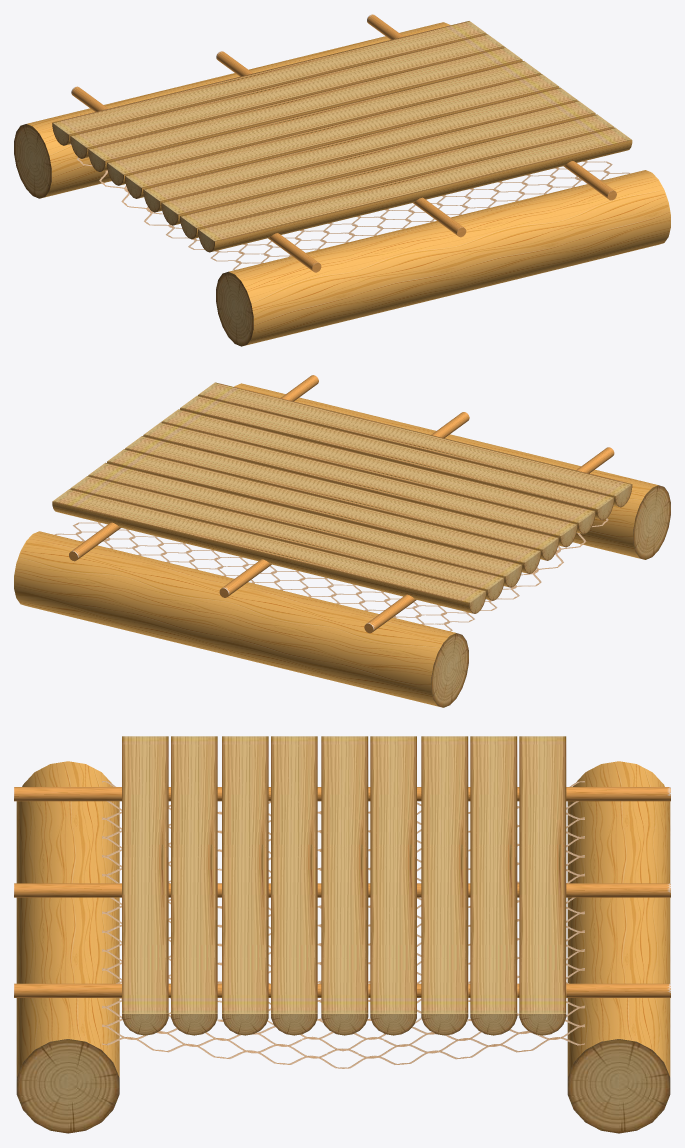
The model's file is Raft.FBX.
3 views of the same model, one above another, from view 1: azimuth 30°, elevation 25°; view 2: azimuth 150°, elevation 25°; view 3: azimuth 270°, elevation 25° (orthographic). The views are drawn at different scales.
Visible parts, largest first — view 1: Box001; view 2: Box001; view 3: Box001.
Boxes of the visible parts, x1,y1,x2,y2 form: Box001: (14, 14, 670, 346); Box001: (14, 375, 670, 707); Box001: (14, 736, 670, 1133).
Bounding box in the file's own units: 148 × 29.79 × 148.
Materials: 4 (4 with a texture image).
